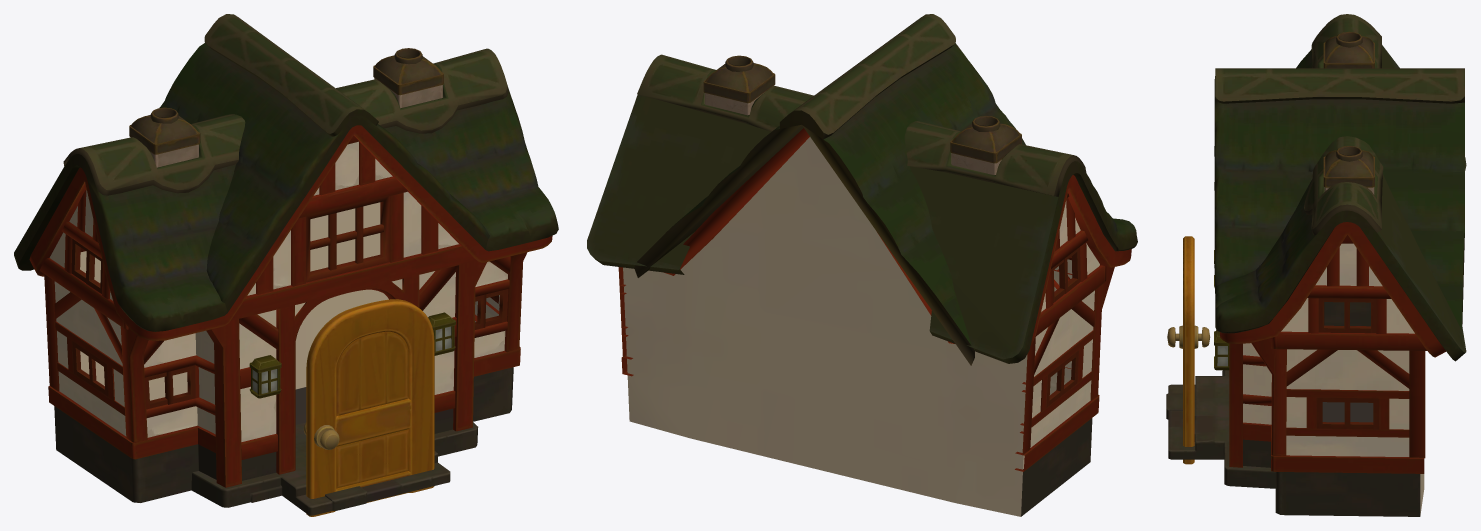
Rendered from house-chalet-red.glb.
The picture shows the model from 3 angles, left to right: view 1: azimuth 30°, elevation 25°; view 2: azimuth 150°, elevation 25°; view 3: azimuth 270°, elevation 25°; orthographic projection. The views are drawn at different scales.
Parts seen in each view (by area): view 1: HouseWallPA04WoodframeC_node10, HouseWallPA04WoodframeC_node18, HouseRoofPA04ThatchedG_node6, HouseRoofPA04ThatchedG_node7, HouseDoorStandardBR_node3, HouseRoofPA04ThatchedG_node3, HouseWallPA04WoodframeC_node14; view 2: HouseWallPA04WoodframeC_node10, HouseRoofPA04ThatchedG_node6, HouseRoofPA04ThatchedG_node7, HouseWallPA04WoodframeC_node18, HouseRoofPA04ThatchedG_node3; view 3: HouseRoofPA04ThatchedG_node6, HouseWallPA04WoodframeC_node10, HouseWallPA04WoodframeC_node18, HouseRoofPA04ThatchedG_node7, HouseRoofPA04ThatchedG_node3, HouseDoorStandardBR_node3, HouseWallPA04WoodframeC_node14.
Part boxes in pixels (x1,y1,x2,y2): HouseWallPA04WoodframeC_node10: [29, 125, 552, 515]; HouseWallPA04WoodframeC_node18: [39, 135, 527, 487]; HouseRoofPA04ThatchedG_node6: [63, 14, 508, 312]; HouseRoofPA04ThatchedG_node7: [14, 86, 558, 331]; HouseDoorStandardBR_node3: [303, 299, 434, 516]; HouseRoofPA04ThatchedG_node3: [129, 48, 443, 167]; HouseWallPA04WoodframeC_node14: [249, 312, 455, 398]; HouseWallPA04WoodframeC_node10: [623, 128, 1131, 516]; HouseRoofPA04ThatchedG_node6: [634, 14, 1086, 365]; HouseRoofPA04ThatchedG_node7: [587, 94, 1137, 363]; HouseWallPA04WoodframeC_node18: [618, 193, 1114, 471]; HouseRoofPA04ThatchedG_node3: [703, 55, 1021, 174]; HouseRoofPA04ThatchedG_node6: [1214, 14, 1464, 329]; HouseWallPA04WoodframeC_node10: [1166, 222, 1445, 516]; HouseWallPA04WoodframeC_node18: [1229, 235, 1426, 473]; HouseRoofPA04ThatchedG_node7: [1215, 45, 1466, 361]; HouseRoofPA04ThatchedG_node3: [1323, 31, 1374, 194]; HouseDoorStandardBR_node3: [1167, 236, 1210, 464]; HouseWallPA04WoodframeC_node14: [1214, 250, 1229, 370].
Size of the model in its own units: 50.03 by 42.06 by 31.31.
6 materials, 6 textured.
